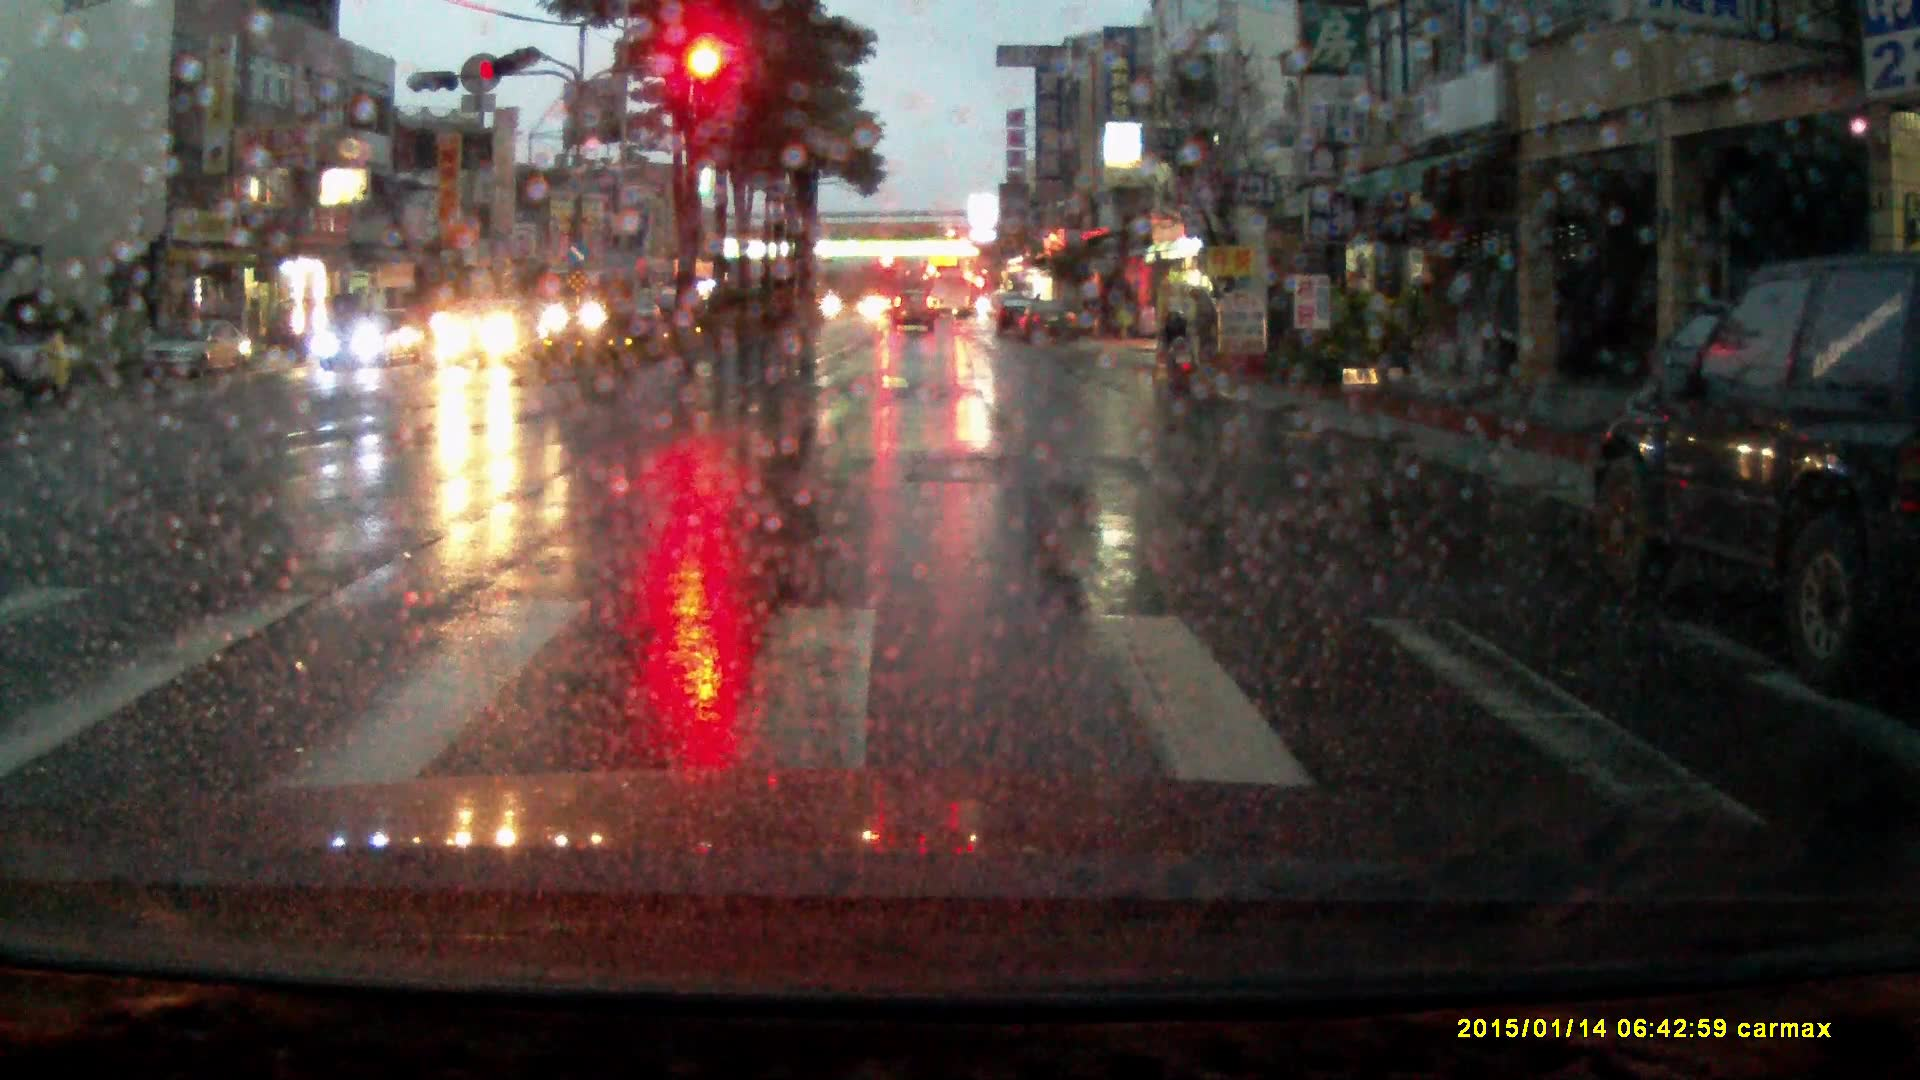rider: (15, 307, 97, 414)
vehicle: (1582, 248, 1920, 683), (435, 295, 546, 367), (317, 303, 430, 372), (142, 314, 253, 380), (547, 268, 640, 335), (1, 331, 69, 389), (1017, 300, 1079, 344), (929, 264, 970, 319), (891, 289, 936, 335), (995, 295, 1030, 338), (860, 294, 894, 319)
